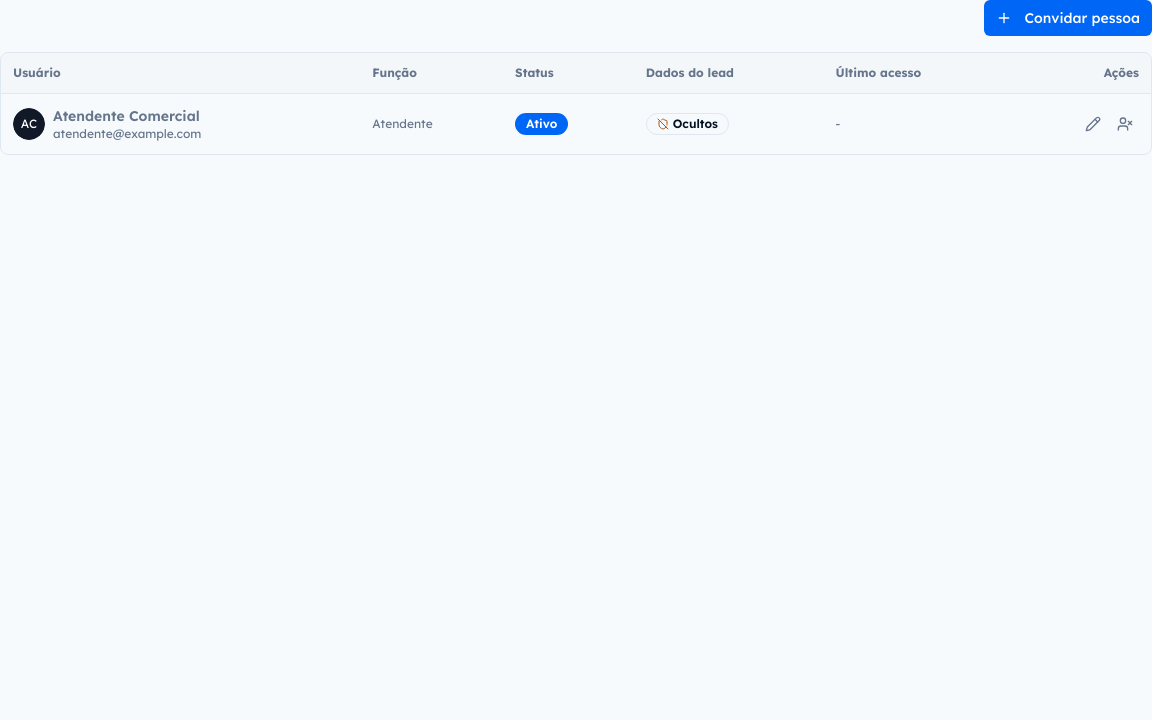
Test: team member permissions › confirms suspension, explains audit and waits for the persisted update
Later steps or results of the test are not shown.
Click the button named "Suspender acesso de Atendente Comercial" at coordinates (1125, 124), box [1111,110,1139,138]
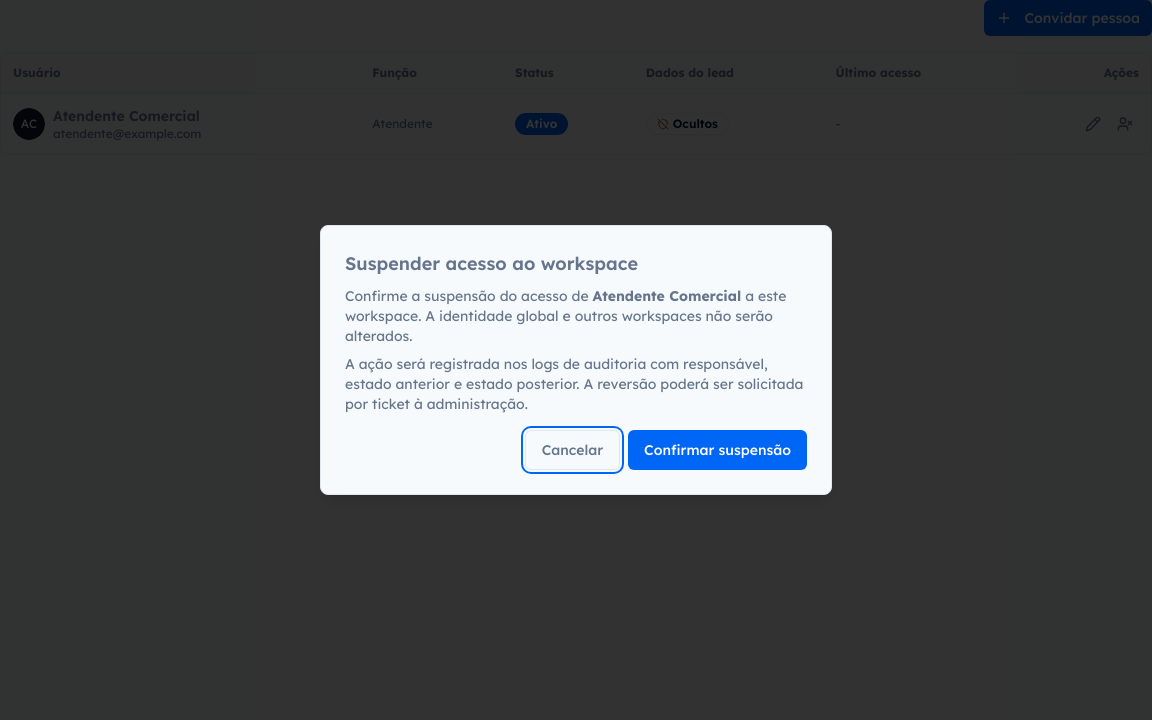
Now the dialog shows "logs de auditoria", box [345,355,804,413]
Now the dialog shows "ticket à administração", box [345,355,804,413]
Click the button "Confirmar suspensão" at coordinates (718, 450), box [628,430,807,470]
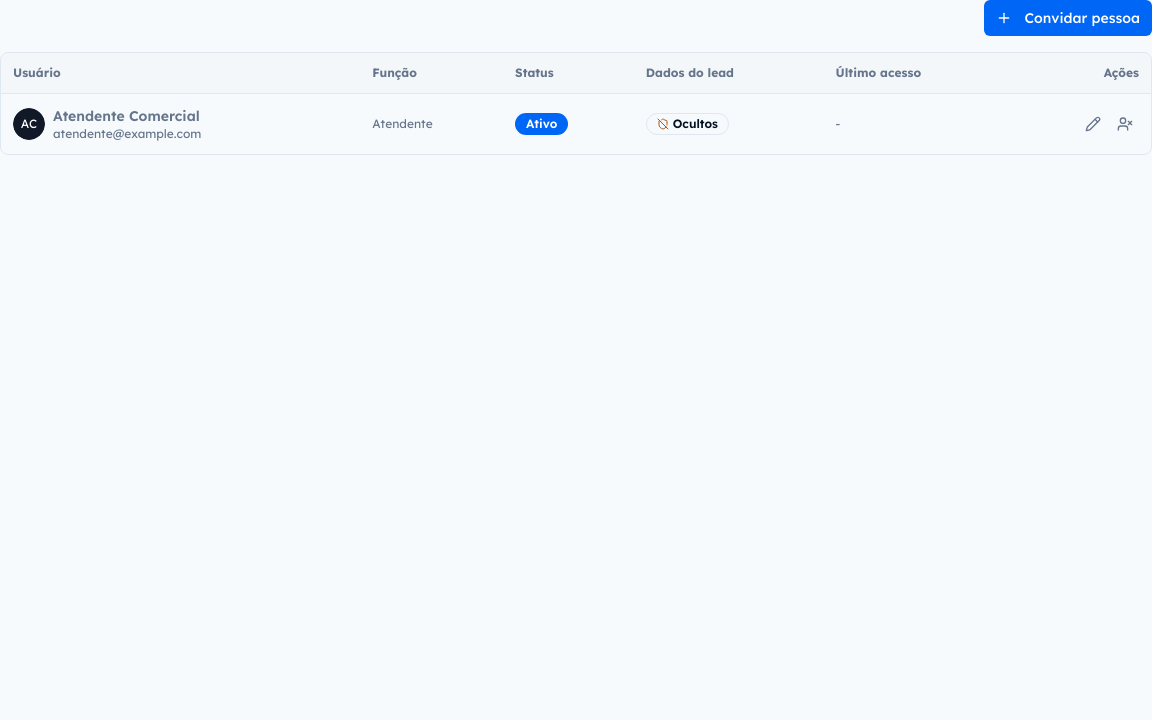
Now the dialog is gone
